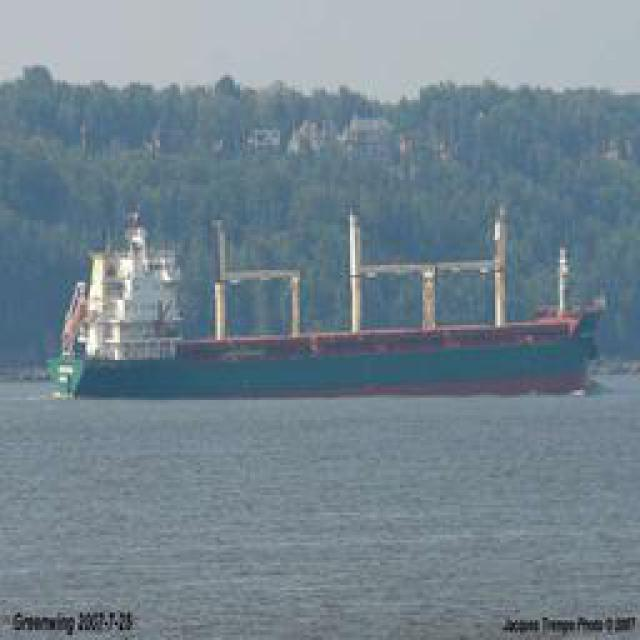Ship: (35, 295, 605, 400)
